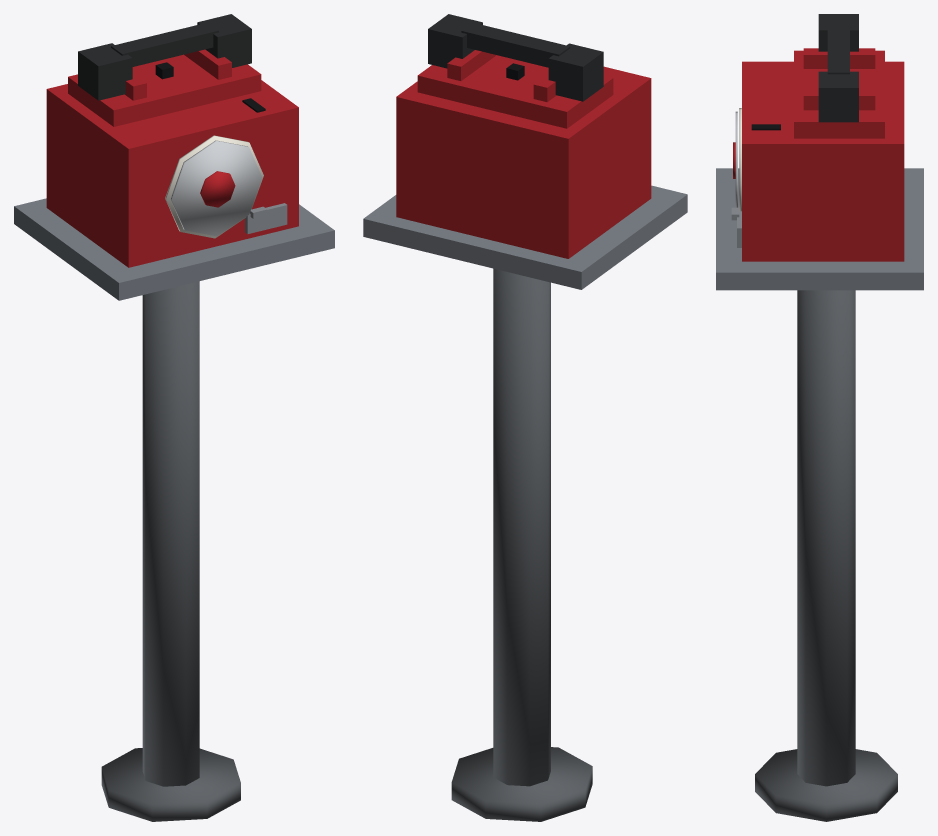
The model's file is payphone_red_low.glb.
3 renders of one model, left to right at view 1: azimuth 30°, elevation 25°; view 2: azimuth 150°, elevation 25°; view 3: azimuth 270°, elevation 25°, orthographic. The views are drawn at different scales.
Parts seen in each view (by area): view 1: payphone_low; view 2: payphone_low; view 3: payphone_low.
Boxes of the visible parts, left/top/right/bottom form: payphone_low: left=14, top=14, right=334, bottom=821; payphone_low: left=363, top=14, right=687, bottom=821; payphone_low: left=716, top=14, right=923, bottom=821.
Bounding box in the file's own units: 0.38 × 1.26 × 0.32.
